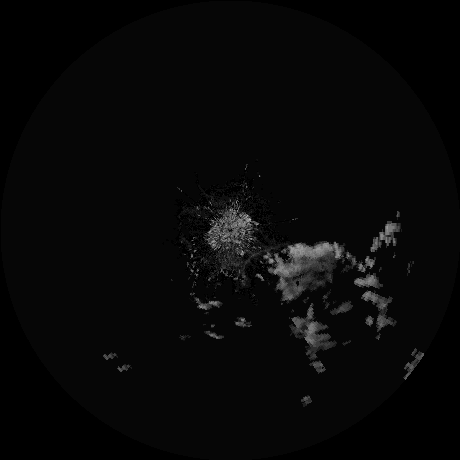frontgust: (241, 246, 277, 281)
